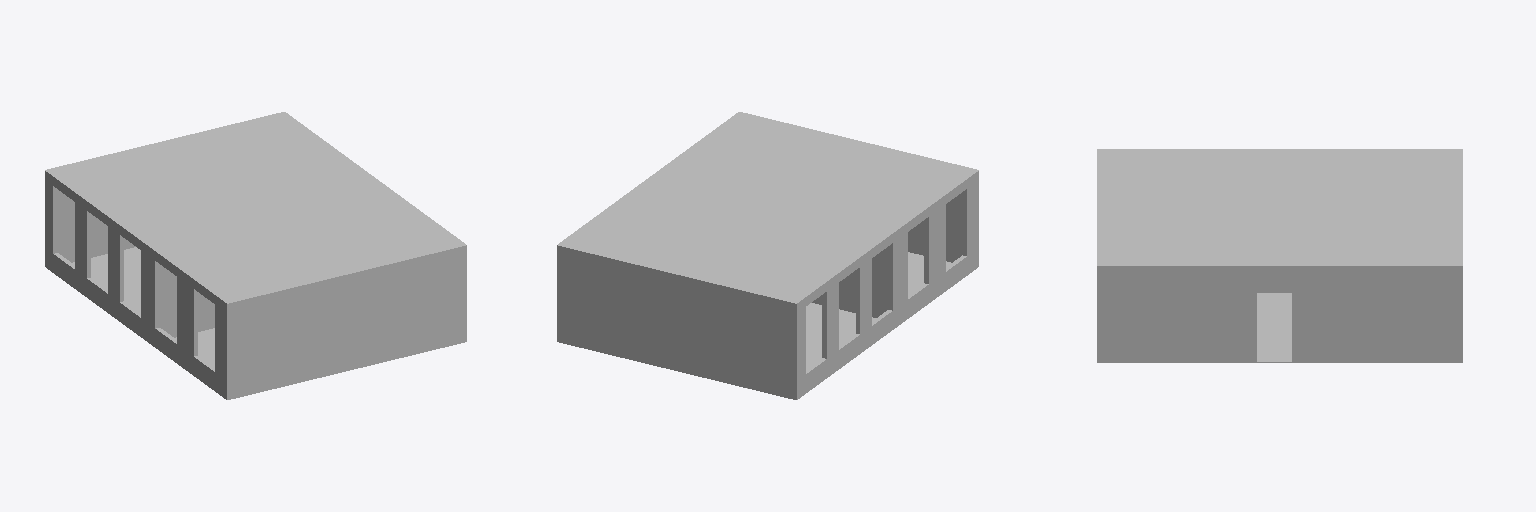
3 renders of one model, left to right at view 1: azimuth 30°, elevation 25°; view 2: azimuth 150°, elevation 25°; view 3: azimuth 270°, elevation 25°, orthographic.
Parts seen in each view (by area): view 1: apartement; view 2: apartement; view 3: apartement.
Boxes of the visible parts, x1,y1,x2,y2 form: apartement: [45, 112, 466, 399]; apartement: [557, 112, 978, 399]; apartement: [1097, 149, 1462, 362].
Size of the model in its own units: 7.92 by 3.05 by 10.44.